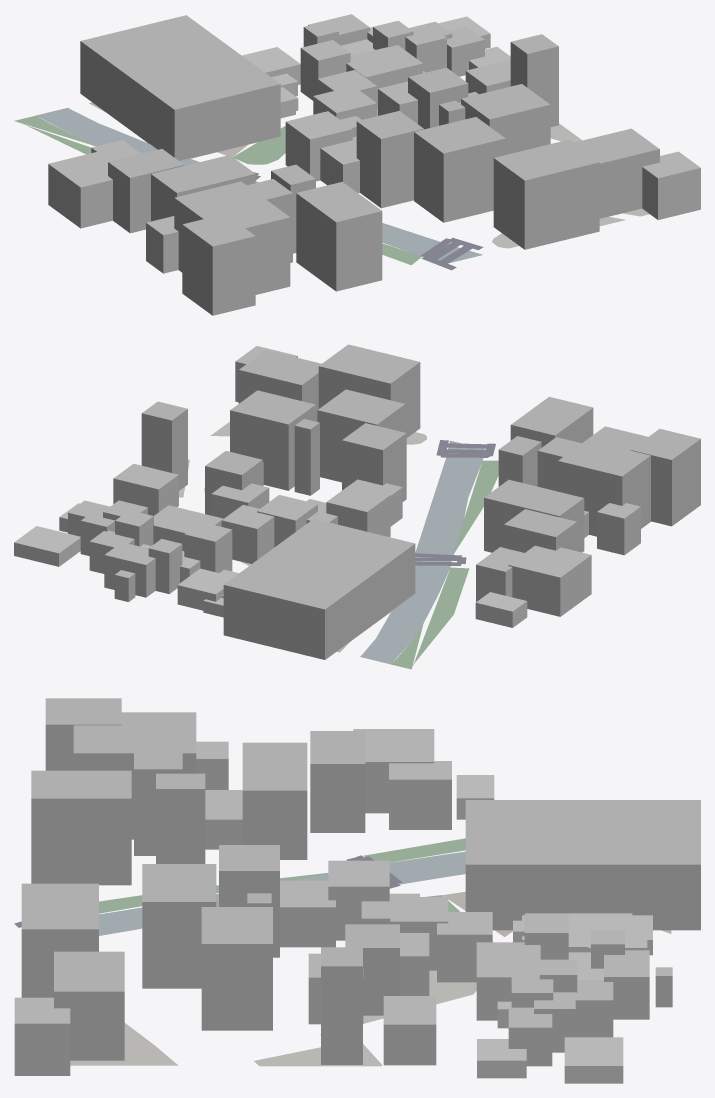
The model's file is 123_98_mid.glb.
3 views of the same model, one above another, from view 1: azimuth 30°, elevation 25°; view 2: azimuth 150°, elevation 25°; view 3: azimuth 270°, elevation 25° (orthographic). The views are drawn at different scales.
Bounding box in the file's own units: 560 × 86.29 × 540.
